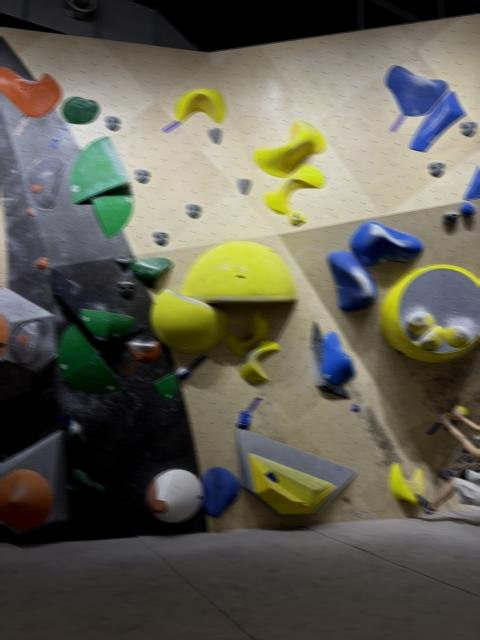crimp: (410, 91, 465, 150), (125, 340, 160, 361)
downhold: (2, 198, 16, 216), (461, 120, 476, 136), (118, 281, 133, 297), (153, 230, 168, 245), (429, 162, 444, 176), (238, 178, 251, 194), (187, 202, 200, 218), (443, 212, 459, 225), (208, 128, 221, 143), (106, 115, 119, 129), (136, 169, 149, 182)
jib: (237, 410, 250, 428), (351, 405, 359, 411)
jug: (406, 310, 434, 335), (418, 325, 445, 349), (445, 325, 470, 346)
ledge: (151, 289, 227, 352), (254, 120, 326, 176), (350, 221, 423, 266), (386, 65, 448, 115), (264, 164, 324, 214), (175, 88, 225, 122), (322, 332, 354, 382), (92, 195, 131, 236), (61, 96, 99, 123), (81, 308, 109, 337), (106, 312, 134, 338), (153, 373, 177, 403)
pinch: (328, 250, 377, 311), (226, 309, 268, 356)
pocket: (288, 211, 305, 224)
sidepull: (70, 136, 129, 203), (25, 156, 67, 210), (240, 341, 279, 382)
sloper: (0, 469, 52, 529), (146, 468, 203, 522)
tape: (50, 122, 70, 148), (50, 409, 72, 425), (121, 356, 139, 374), (187, 354, 206, 370), (14, 116, 29, 134), (390, 113, 405, 131), (163, 120, 180, 132), (248, 397, 260, 412), (427, 422, 441, 434)
undercling: (183, 241, 297, 302), (201, 467, 240, 517)
volume: (236, 429, 356, 513), (380, 264, 480, 361), (0, 431, 69, 536), (0, 288, 57, 399), (250, 453, 336, 513), (310, 321, 349, 398)
